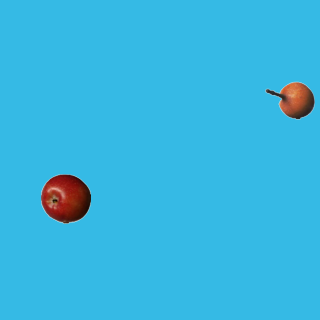Apple Braeburn: (40, 173, 90, 223)
Granadilla: (264, 75, 314, 125)
